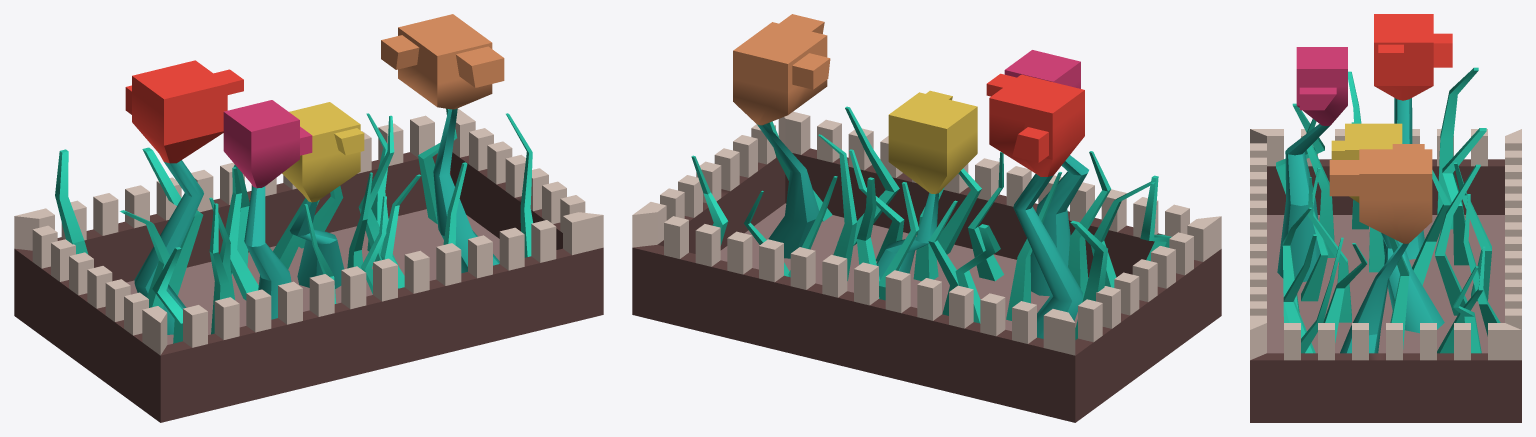
File: flowerbed.fbx
3 views of the same model, side by side, from view 1: azimuth 30°, elevation 25°; view 2: azimuth 150°, elevation 25°; view 3: azimuth 270°, elevation 25° (orthographic). The views are drawn at different scales.
Visible parts, largest first — view 1: pCube1; view 2: pCube1; view 3: pCube1.
Part boxes in pixels (left/top/right/bottom): pCube1: left=14, top=14, right=603, bottom=422; pCube1: left=632, top=14, right=1221, bottom=422; pCube1: left=1250, top=14, right=1521, bottom=422.
Size of the model in its own units: 56 by 31.13 by 32.
Materials: 1 (1 with a texture image).
